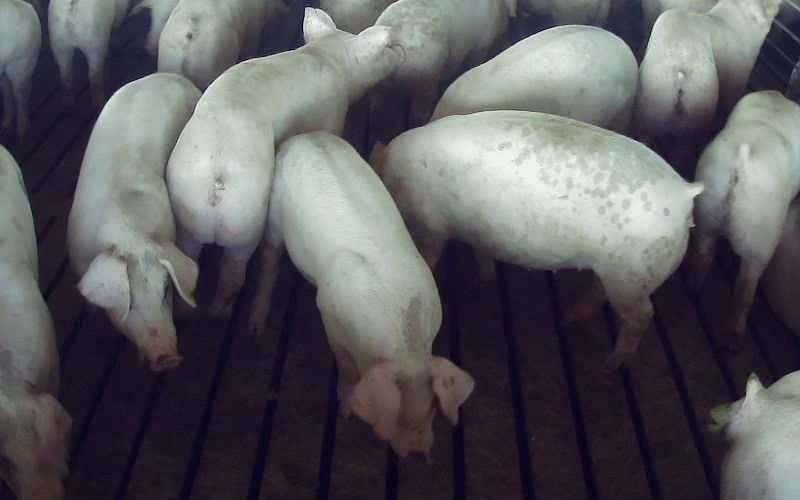pig: (251, 132, 473, 455), (166, 8, 397, 313), (67, 73, 200, 371), (687, 91, 799, 335), (432, 25, 637, 132), (634, 10, 742, 175), (376, 0, 514, 123), (158, 0, 281, 89), (722, 371, 799, 499), (48, 0, 130, 106)
